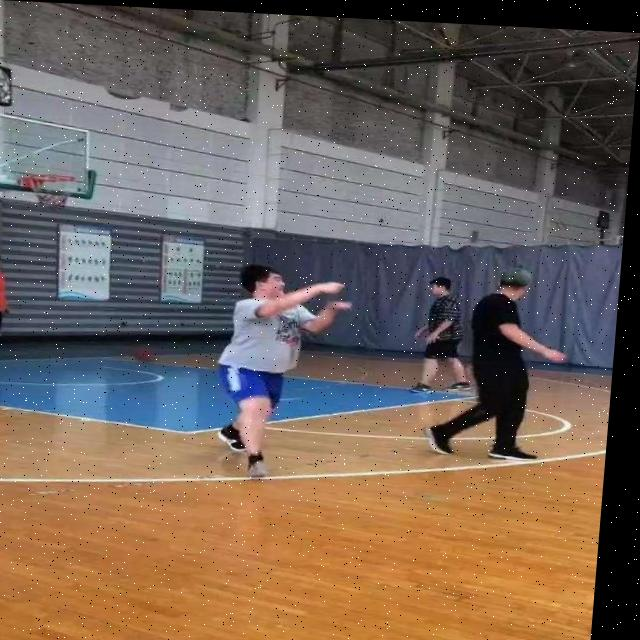basketball: (132, 344, 156, 364)
hoop: (25, 172, 76, 212)
